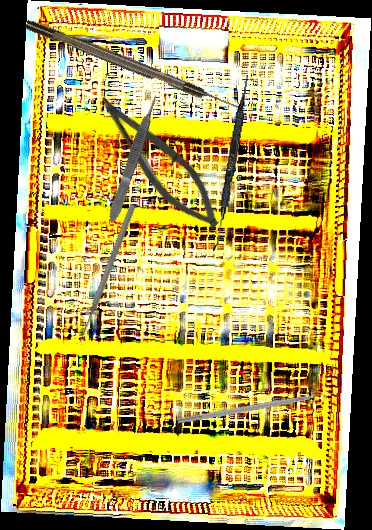Chopper: (176, 390, 336, 433)
Hook Surgical: (24, 17, 240, 114)
Micro Scissor: (82, 87, 234, 239)
Pusher: (75, 203, 138, 344)
Spatula Surgical: (212, 73, 251, 253)
Tissue Forceps: (104, 92, 164, 225)
